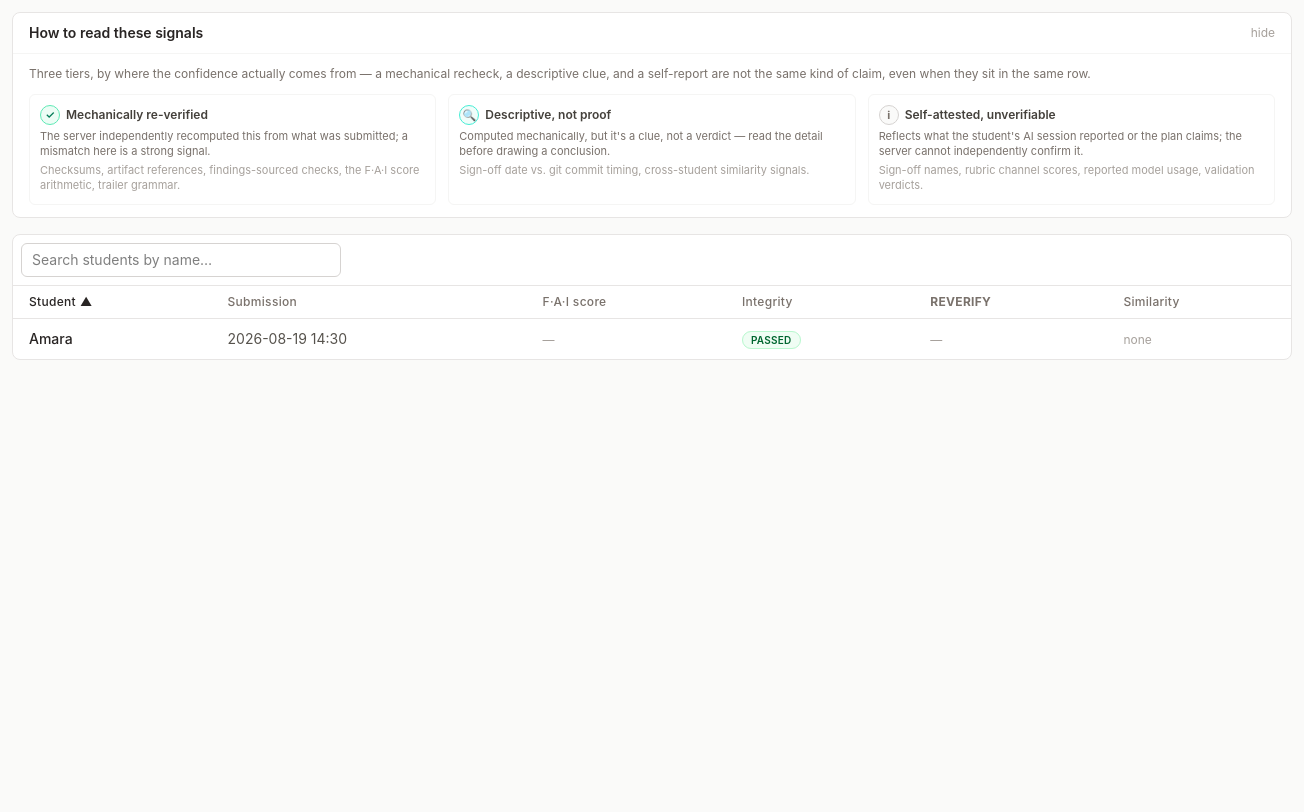
Test: Roster drill-in › fetches the student's submissions and renders the existing App with the payload
The image size is (1304, 812).
Click the text "Amara" at (51, 338), box [13,318,212,358]
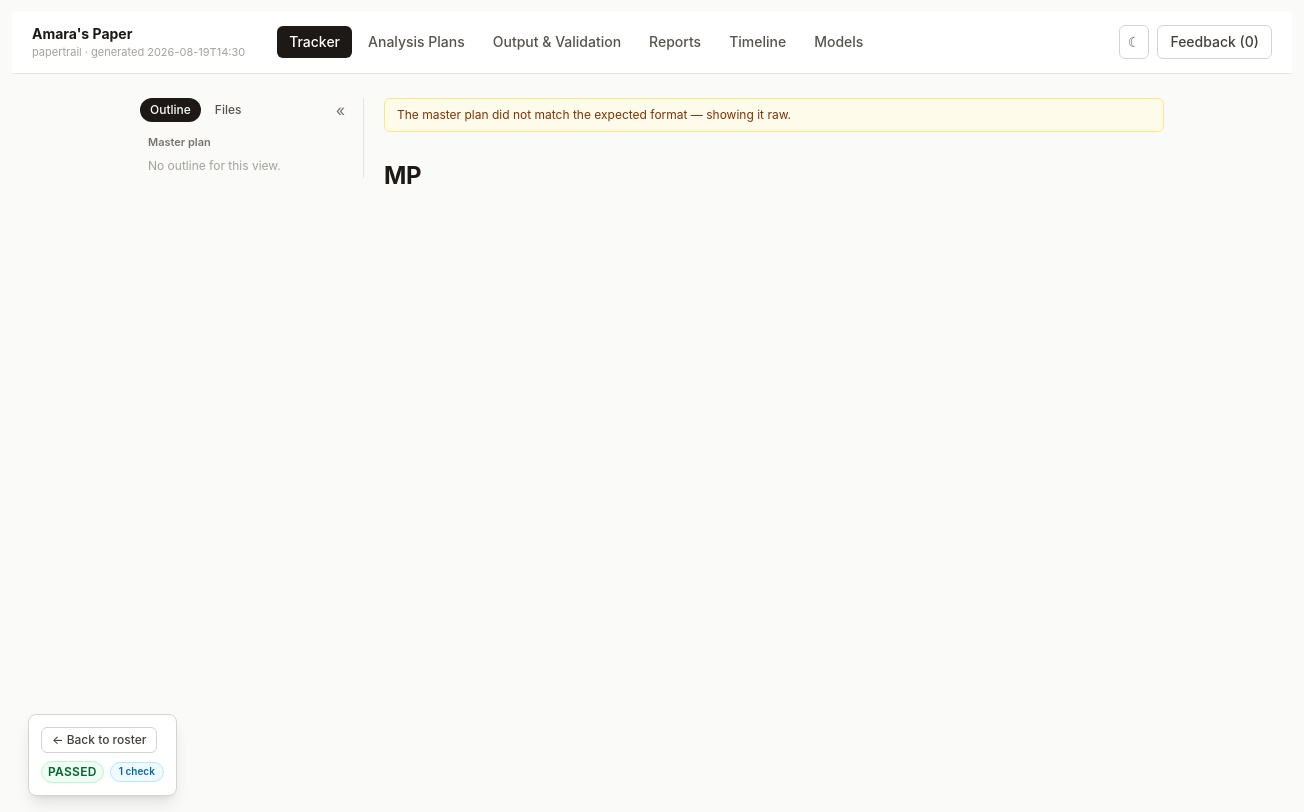
Result: the text "Amara's Paper" is shown at [32,25,132,42]
Result: the button "Tracker" is shown at [277,26,352,58]
